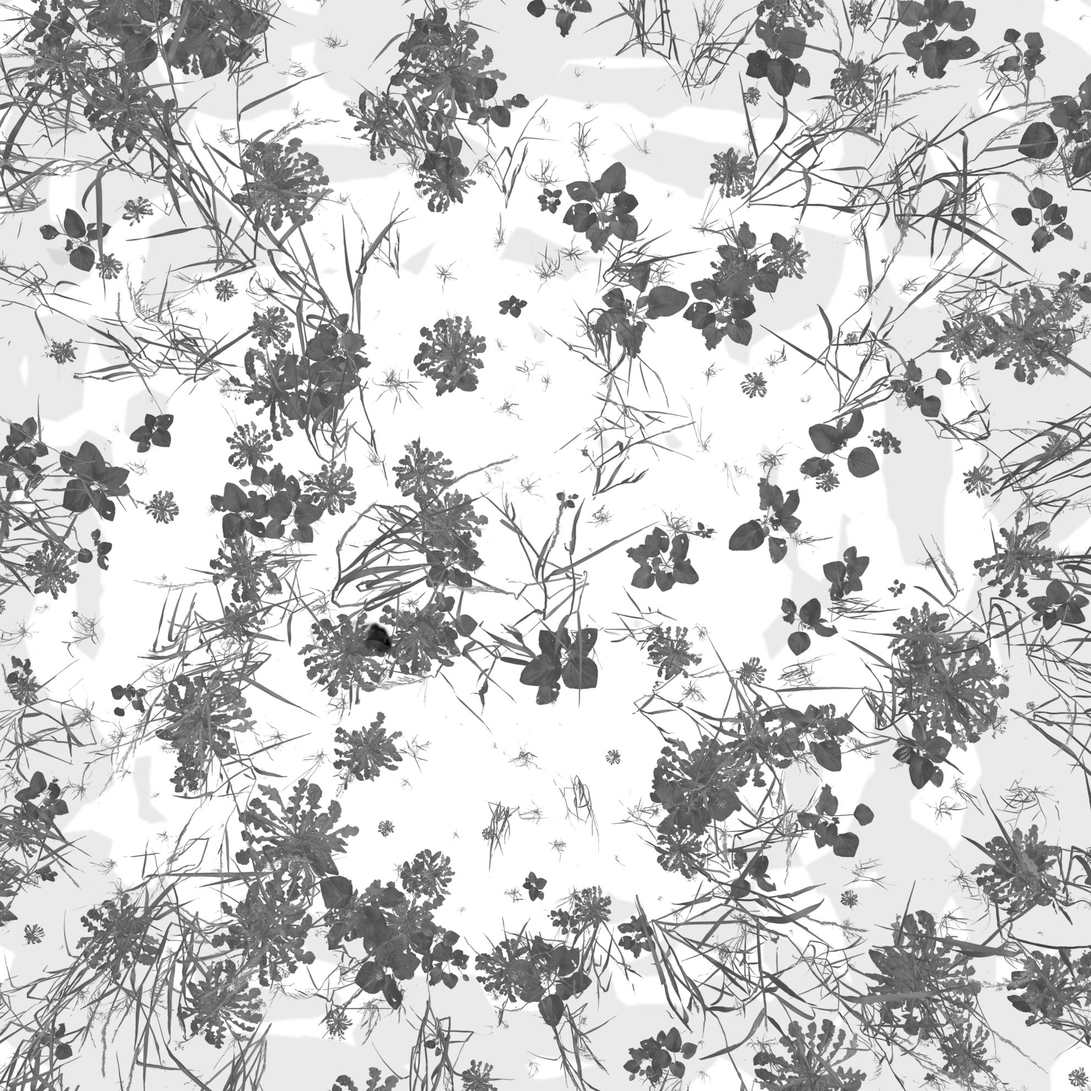landmine: (346, 622, 398, 660)
